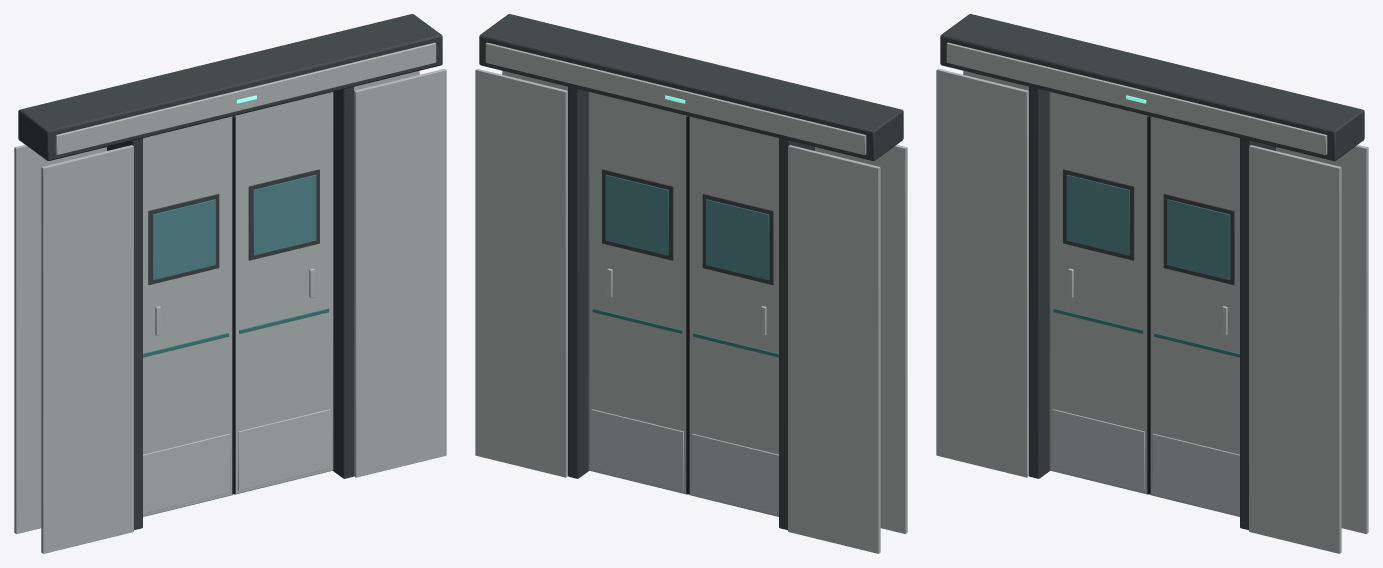
Rendered from LP_DoubleSlidingDoor.fbx.
3 views of the same model, side by side, from view 1: azimuth 30°, elevation 25°; view 2: azimuth 150°, elevation 25°; view 3: azimuth 330°, elevation 25° (orthographic).
Visible parts, largest first — view 1: Fixed_Frame, Leaf_L, Leaf_R; view 2: Fixed_Frame, Leaf_L, Leaf_R; view 3: Fixed_Frame, Leaf_R, Leaf_L.
Boxes of the visible parts, left/top/right/bottom form: Fixed_Frame: left=14, top=14, right=446, bottom=553; Leaf_L: left=233, top=92, right=333, bottom=494; Leaf_R: left=143, top=116, right=233, bottom=516; Fixed_Frame: left=475, top=14, right=907, bottom=553; Leaf_L: left=588, top=92, right=688, bottom=494; Leaf_R: left=688, top=116, right=778, bottom=516; Fixed_Frame: left=936, top=14, right=1368, bottom=553; Leaf_R: left=1049, top=92, right=1149, bottom=494; Leaf_L: left=1149, top=116, right=1239, bottom=516.
Size of the model in its own units: 302 by 302 by 43.41.
